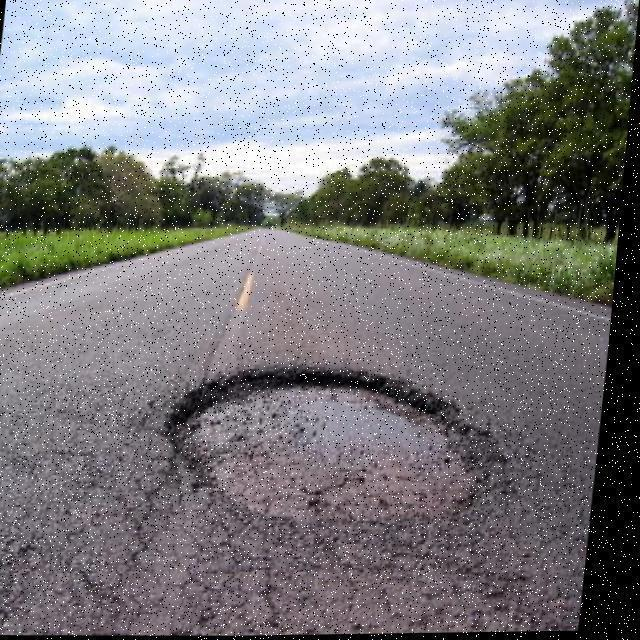Pothole: (171, 362, 507, 550)
